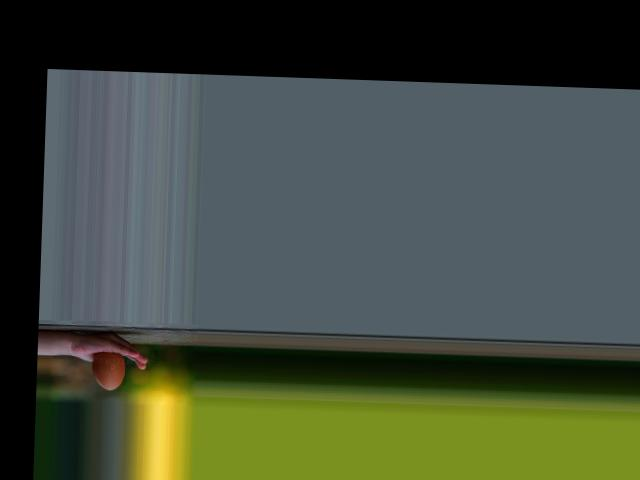egg: (90, 351, 125, 390)
